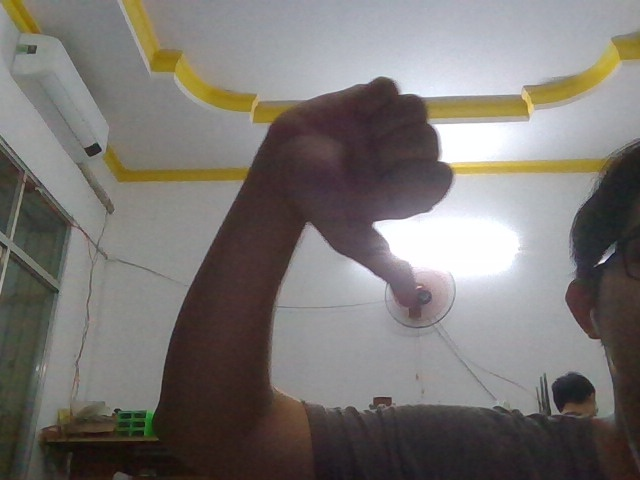thumb_down: (257, 65, 466, 311)
